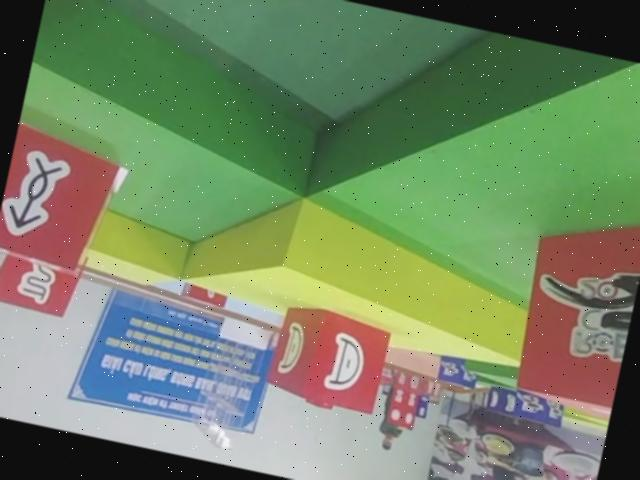R1: (506, 185, 640, 422)
R2 Fake: (0, 235, 87, 326)
R2 Real: (0, 109, 131, 281), (255, 294, 397, 420)
